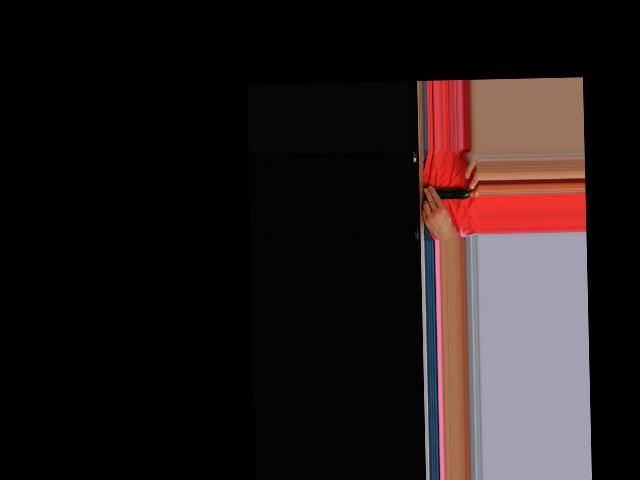cucumber: (434, 188, 470, 200)
